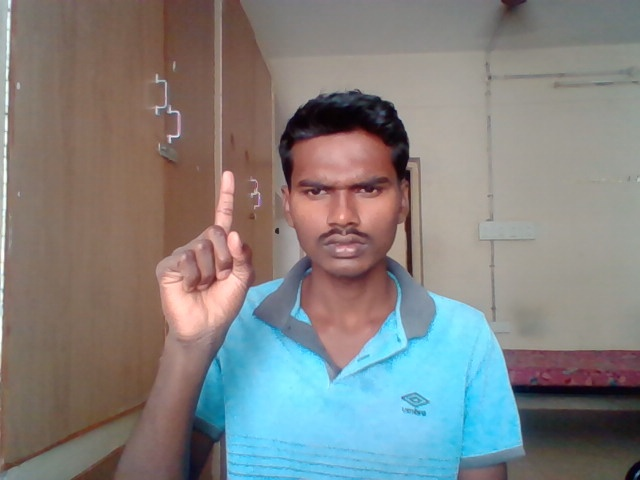No: (153, 169, 257, 346)
